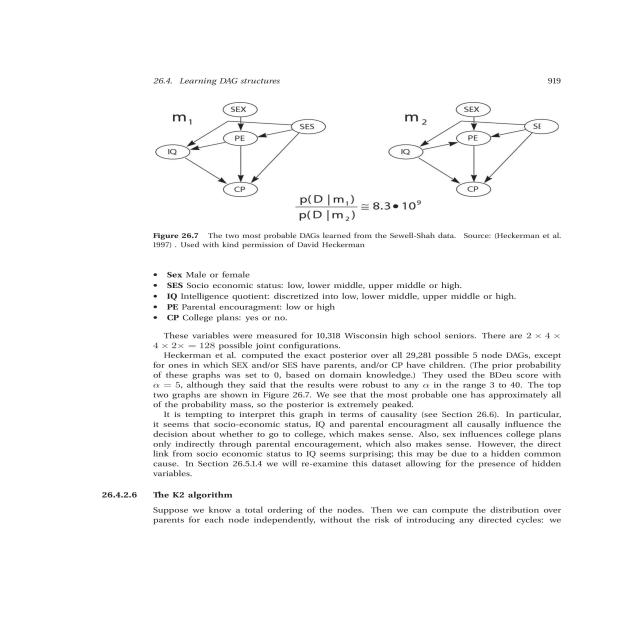diagram: (128, 98, 618, 260)
